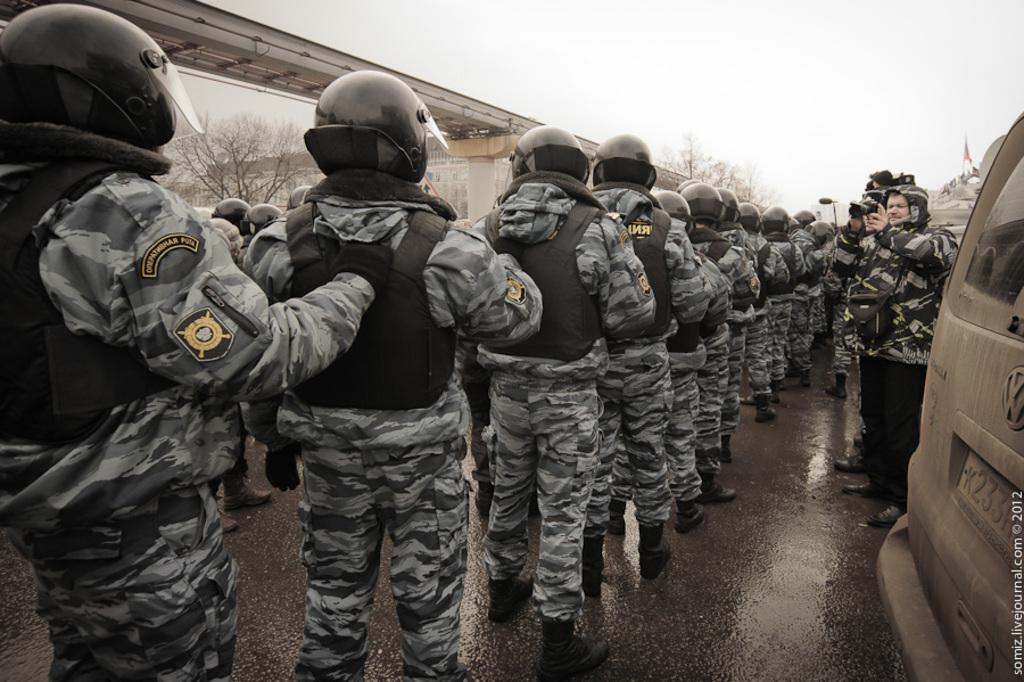helmet: (0, 3, 204, 155), (313, 70, 449, 184), (504, 125, 590, 190), (590, 133, 652, 190), (676, 183, 724, 226), (703, 188, 740, 223), (730, 202, 762, 234), (761, 205, 790, 236), (806, 220, 834, 248), (792, 210, 817, 234)
nohelmet: (882, 184, 930, 231)
